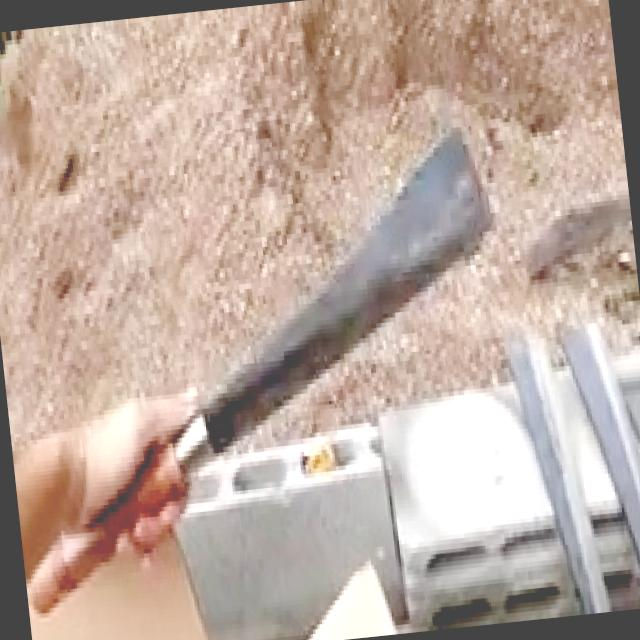eto: (497, 331, 612, 614)
